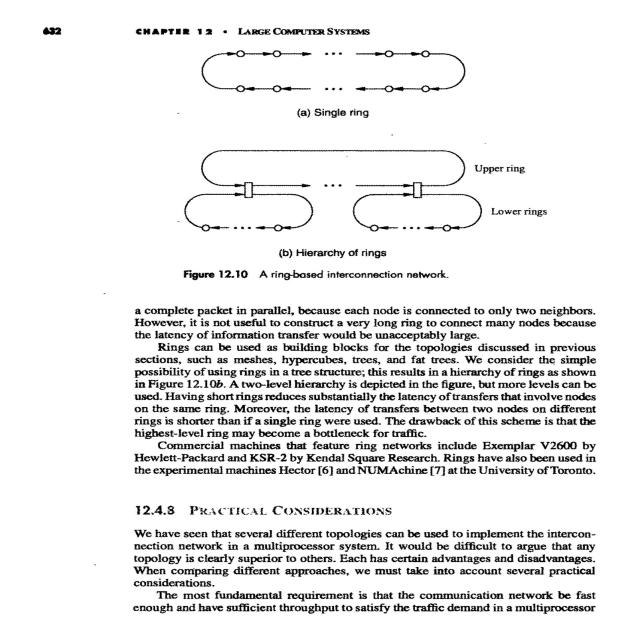diagram: (112, 36, 601, 291)
